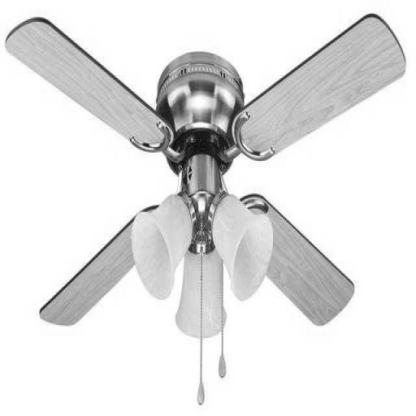ceiling-fan: (3, 11, 407, 403)
